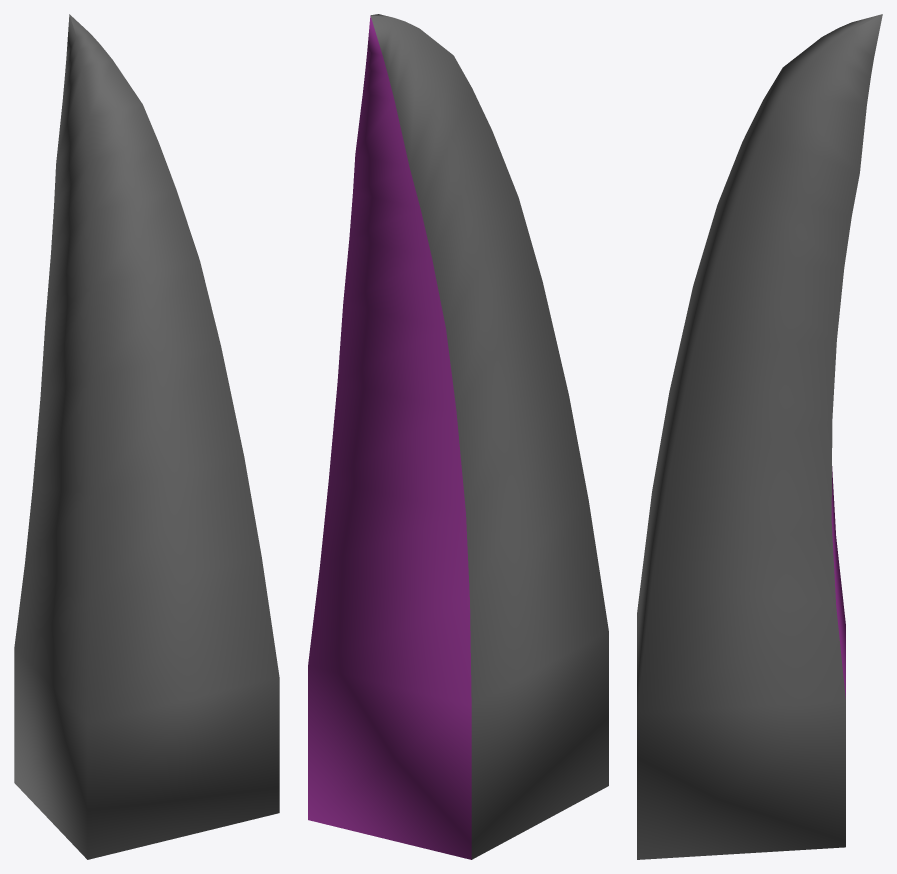
File: GiantToothJunk.fbx
The picture shows the model from 3 angles, left to right: view 1: azimuth 30°, elevation 25°; view 2: azimuth 150°, elevation 25°; view 3: azimuth 270°, elevation 25°; orthographic projection. The views are drawn at different scales.
Parts seen in each view (by area): view 1: GiantToothJunk; view 2: GiantToothJunk; view 3: GiantToothJunk.
Boxes of the visible parts, box(x1,y1,x2,y2) form: GiantToothJunk: box(14, 14, 279, 859); GiantToothJunk: box(308, 14, 608, 859); GiantToothJunk: box(637, 14, 882, 859).
Size of what is drawn, in the model's own units: 73.12 by 75.3 by 269.
